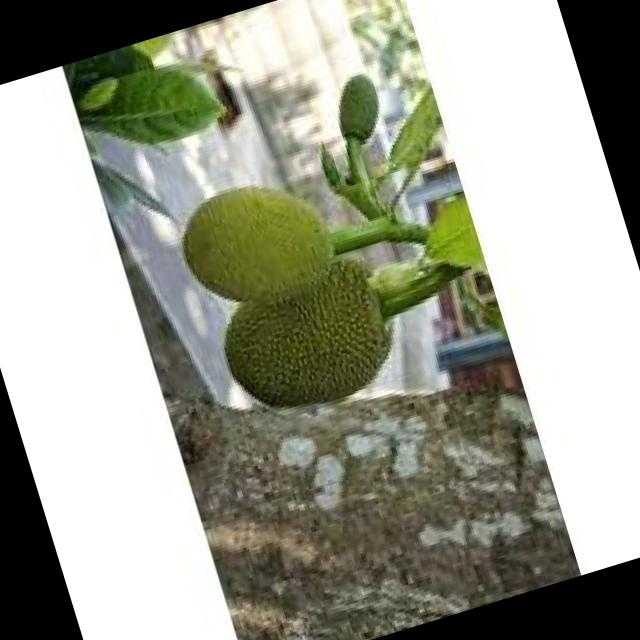Fruit: (156, 149, 374, 373), (202, 240, 417, 433)
